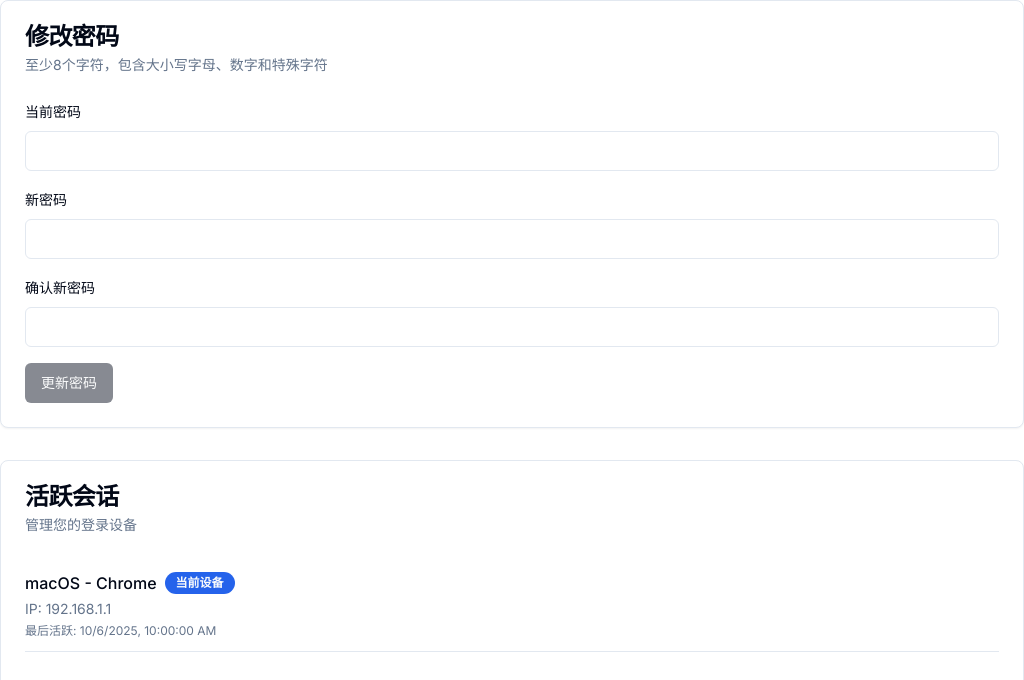
it: SecurityTab › 密码修改表单 › 应该显示密码强度指示器
Type "12345678" into the password field labelled "新密码" at (512, 239), box [25,219,999,259]
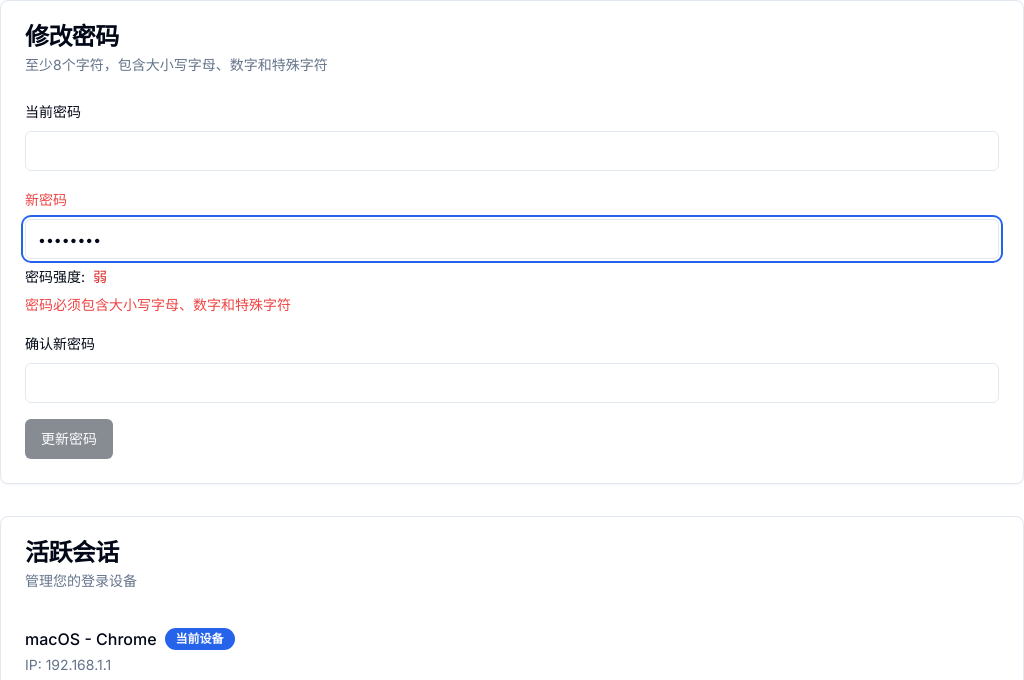
Expected: the text with test id "password-strength" reads "弱", [93,268,107,285]
Type "StrongPass123!" into the password field labelled "新密码" at (512, 239), box [25,219,999,259]
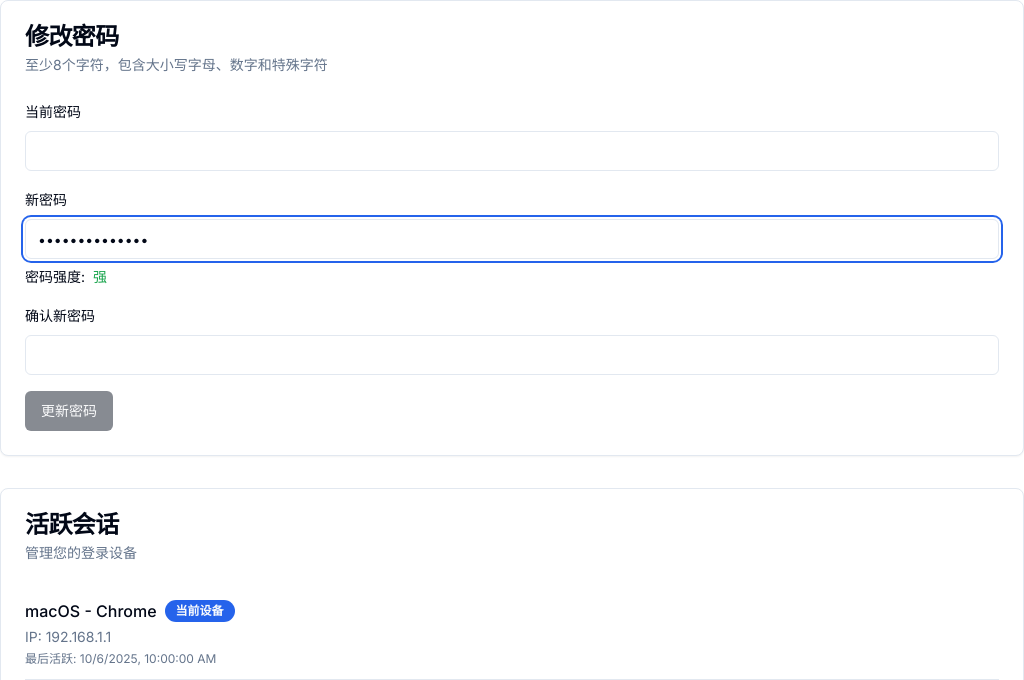
Expected: the text with test id "password-strength" reads "强", [93,268,107,285]
